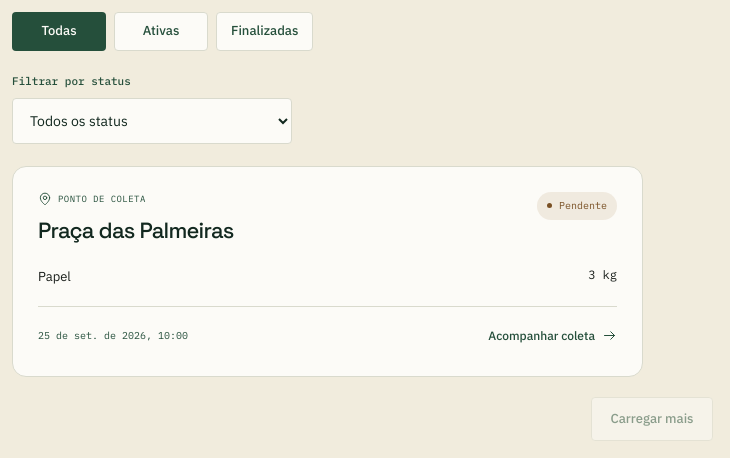
Test: CollectionHistoryList › re-queries from the first page when the status filter changes
Expected: the heading "Praça das Palmeiras" is shown, [38, 214, 234, 246]
Select "Concluída" in the dropdown labelled "Filtrar por status" at (152, 120), box [12, 98, 292, 144]
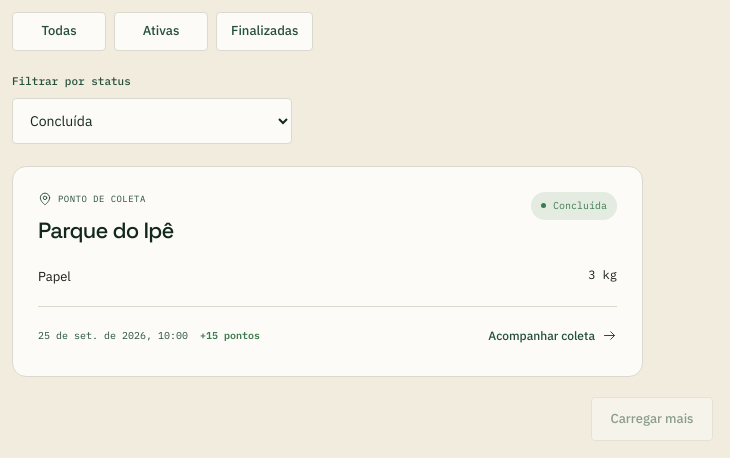
Now the heading "Parque do Ipê" is shown, box [38, 214, 174, 246]
